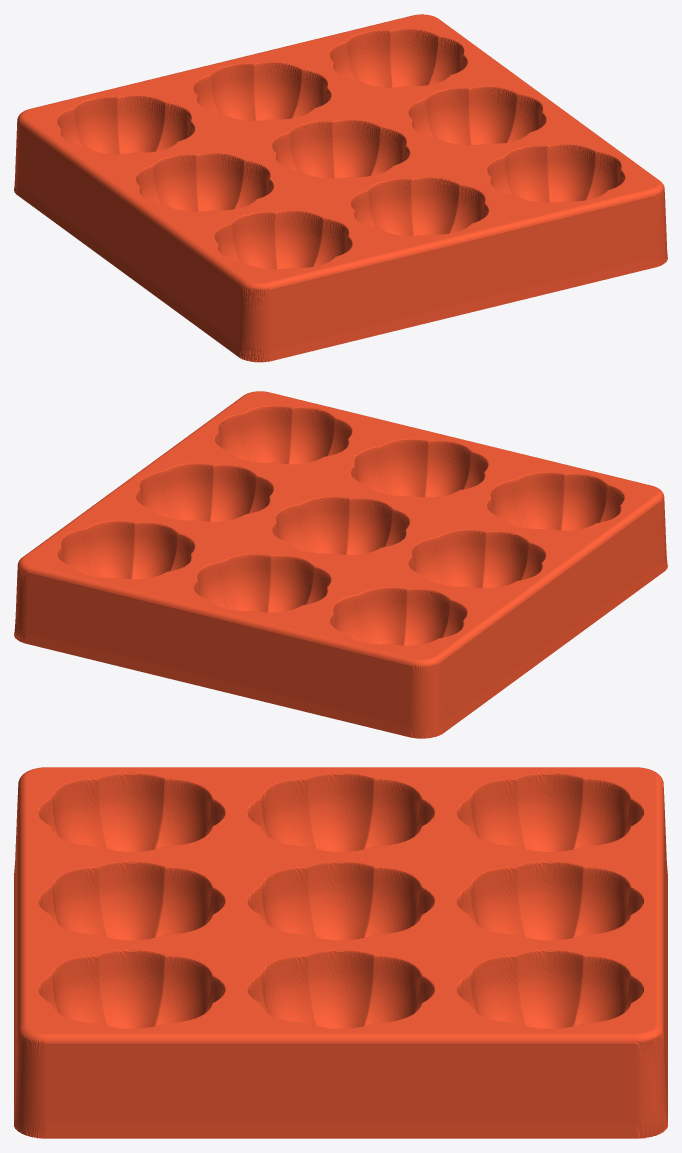
The model's file is mold.glb.
The picture shows the model from 3 angles, top to bottom: view 1: azimuth 30°, elevation 25°; view 2: azimuth 150°, elevation 25°; view 3: azimuth 270°, elevation 25°; orthographic projection. The views are drawn at different scales.
Visible parts, largest first — view 1: geometry_0; view 2: geometry_0; view 3: geometry_0.
Part boxes in pixels (box(x1,y1,x2,y2)): geometry_0: box(14, 14, 667, 362); geometry_0: box(14, 391, 667, 738); geometry_0: box(14, 767, 667, 1138).
Size of the model in its own units: 0.1804 by 0.0304 by 0.1804.
